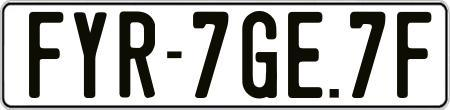7: (349, 9, 388, 98), (190, 12, 227, 100)
E: (285, 12, 323, 102)
F: (394, 9, 431, 95), (29, 11, 64, 101)
G: (242, 10, 283, 100)
R: (120, 9, 157, 101)
Y: (73, 12, 112, 103)
